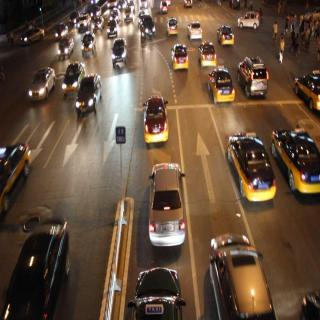Car: (14, 207, 71, 320), (206, 233, 277, 320), (226, 125, 276, 217), (273, 118, 320, 214), (147, 160, 190, 253), (134, 262, 185, 320), (0, 132, 31, 215), (235, 51, 275, 102), (207, 65, 241, 115), (292, 65, 320, 125), (142, 94, 169, 144), (77, 73, 104, 121), (29, 64, 56, 106), (59, 56, 84, 98), (109, 34, 133, 70), (234, 8, 262, 34), (80, 30, 104, 60), (199, 41, 223, 69), (217, 17, 236, 51), (58, 35, 78, 65), (171, 41, 190, 72), (138, 14, 158, 42), (186, 20, 208, 42), (164, 16, 181, 37), (107, 18, 118, 38)
